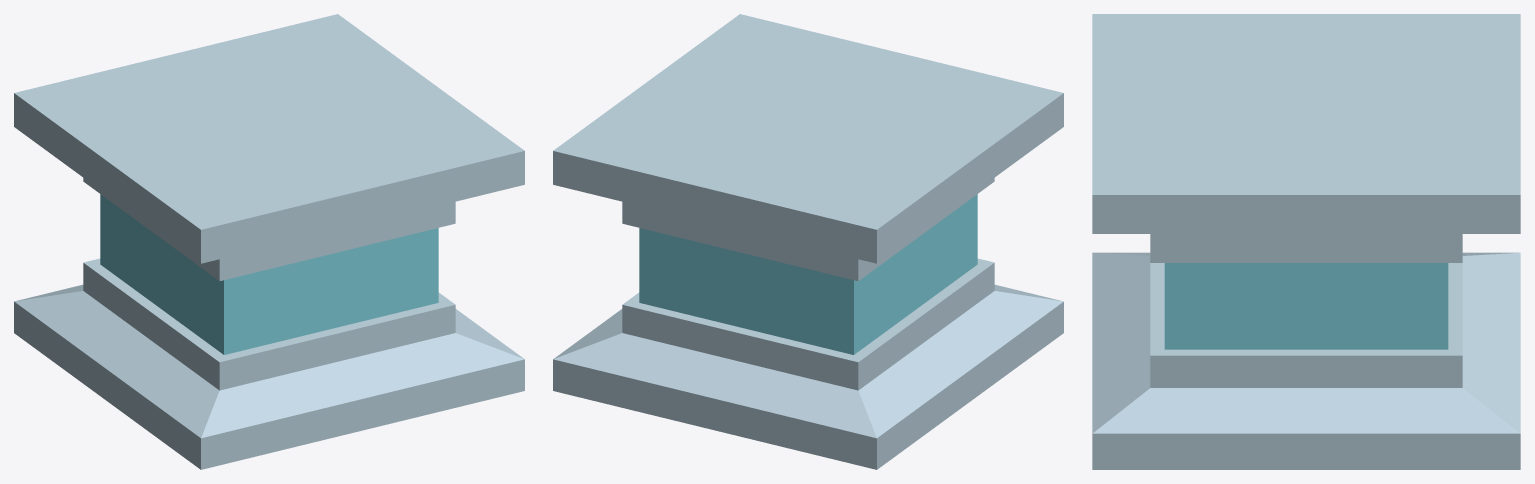
File: SkyScraper3_Middle_03.fbx
The picture shows the model from 3 angles, left to right: view 1: azimuth 30°, elevation 25°; view 2: azimuth 150°, elevation 25°; view 3: azimuth 270°, elevation 25°; orthographic projection. The views are drawn at different scales.
Parts seen in each view (by area): view 1: SkyScraper3_Middle_03; view 2: SkyScraper3_Middle_03; view 3: SkyScraper3_Middle_03.
Boxes of the visible parts, x1,y1,x2,y2 form: SkyScraper3_Middle_03: [14, 14, 524, 469]; SkyScraper3_Middle_03: [553, 14, 1063, 469]; SkyScraper3_Middle_03: [1092, 14, 1520, 469].
Bounding box in the file's own units: 96 × 68 × 96.
